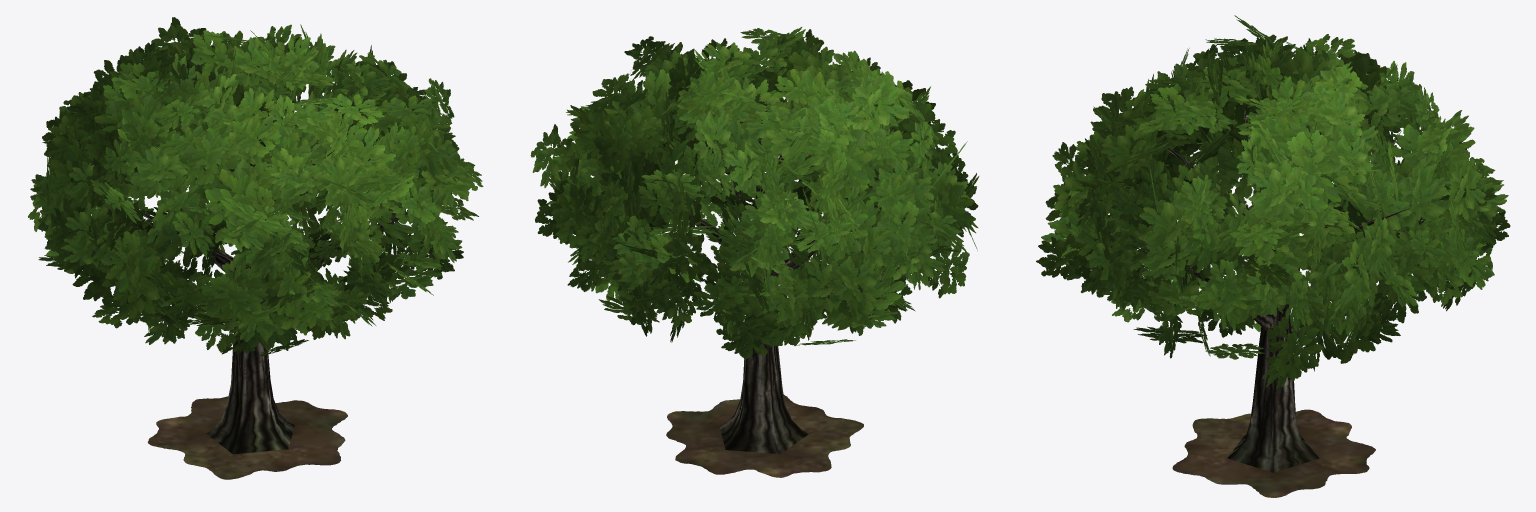
File: oak-large-lite.glb
3 renders of one model, left to right at view 1: azimuth 30°, elevation 25°; view 2: azimuth 150°, elevation 25°; view 3: azimuth 270°, elevation 25°, orthographic.
Parts seen in each view (by area): view 1: oak_large_lite; view 2: oak_large_lite; view 3: oak_large_lite.
Part boxes in pixels (bbox=[...]): oak_large_lite: bbox=[28, 17, 483, 479]; oak_large_lite: bbox=[530, 27, 979, 477]; oak_large_lite: bbox=[1036, 15, 1510, 497].
Size of the model in its own units: 13.23 by 12.24 by 13.85.
Materials: 1 (1 with a texture image).
